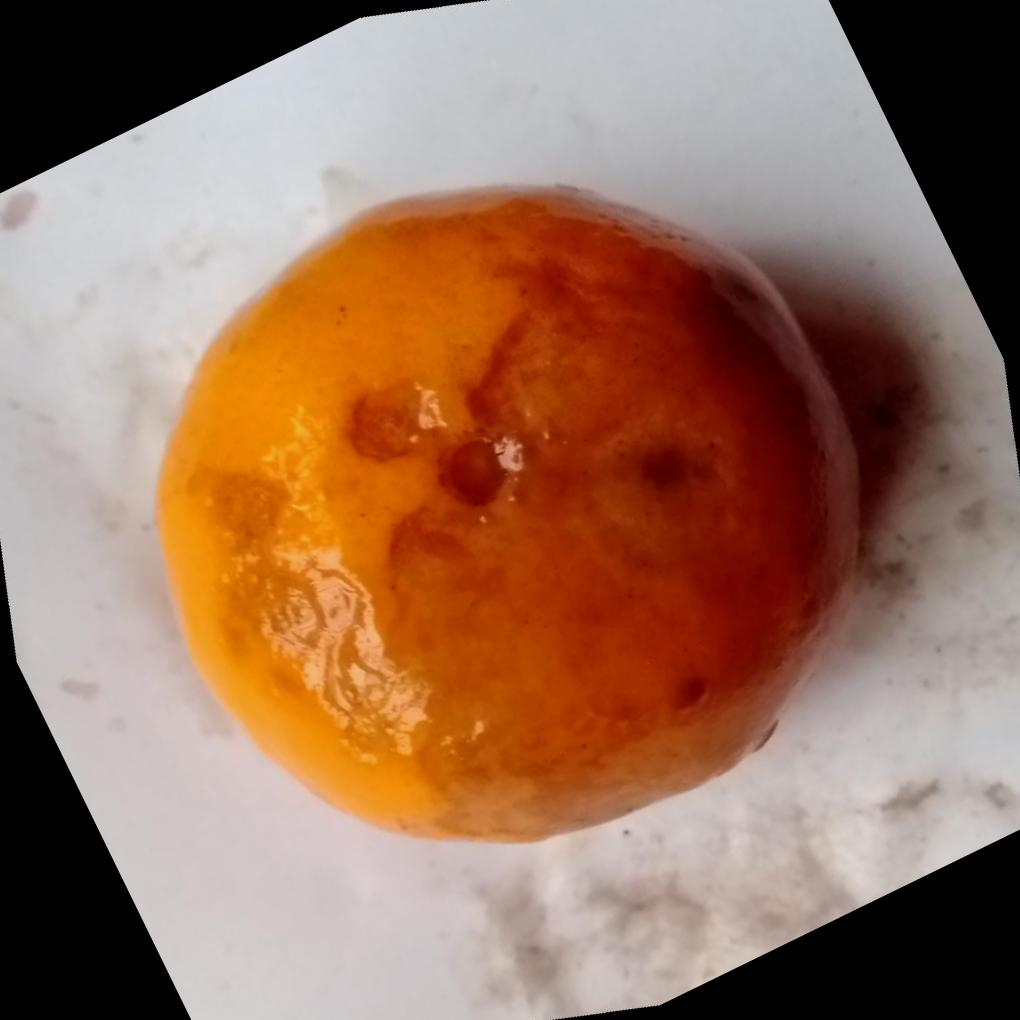FreshOrange: (155, 182, 867, 842)
